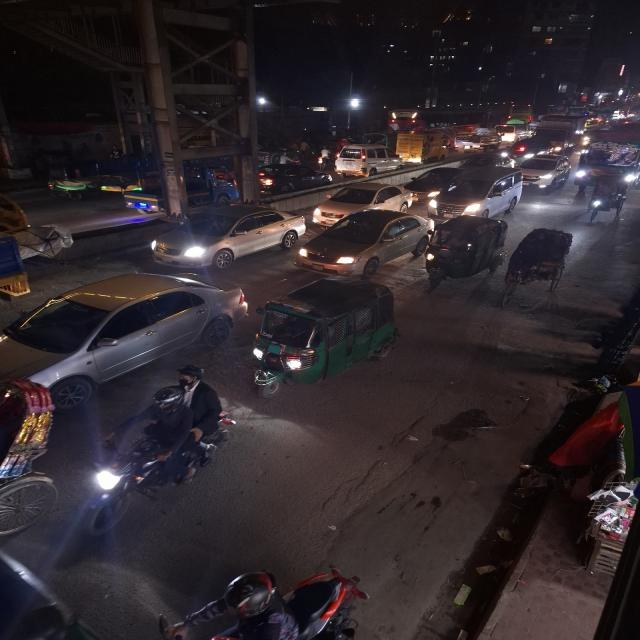bus: (574, 129, 640, 187)
car: (0, 268, 247, 417), (146, 202, 306, 272), (298, 209, 430, 276), (435, 166, 524, 217), (308, 182, 412, 224), (516, 151, 572, 193), (255, 163, 327, 195), (335, 144, 404, 174), (403, 166, 462, 200), (507, 137, 556, 159)
cng: (250, 280, 400, 388)
motorcycle: (75, 362, 232, 536)
rickshaw: (0, 373, 62, 558), (423, 213, 507, 291), (502, 224, 577, 304), (0, 184, 72, 266), (580, 174, 630, 222), (43, 165, 98, 201)
truck: (529, 116, 582, 152), (396, 132, 446, 164)
